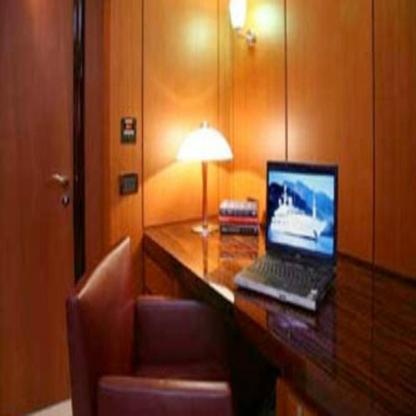board: (234, 163, 339, 312)
